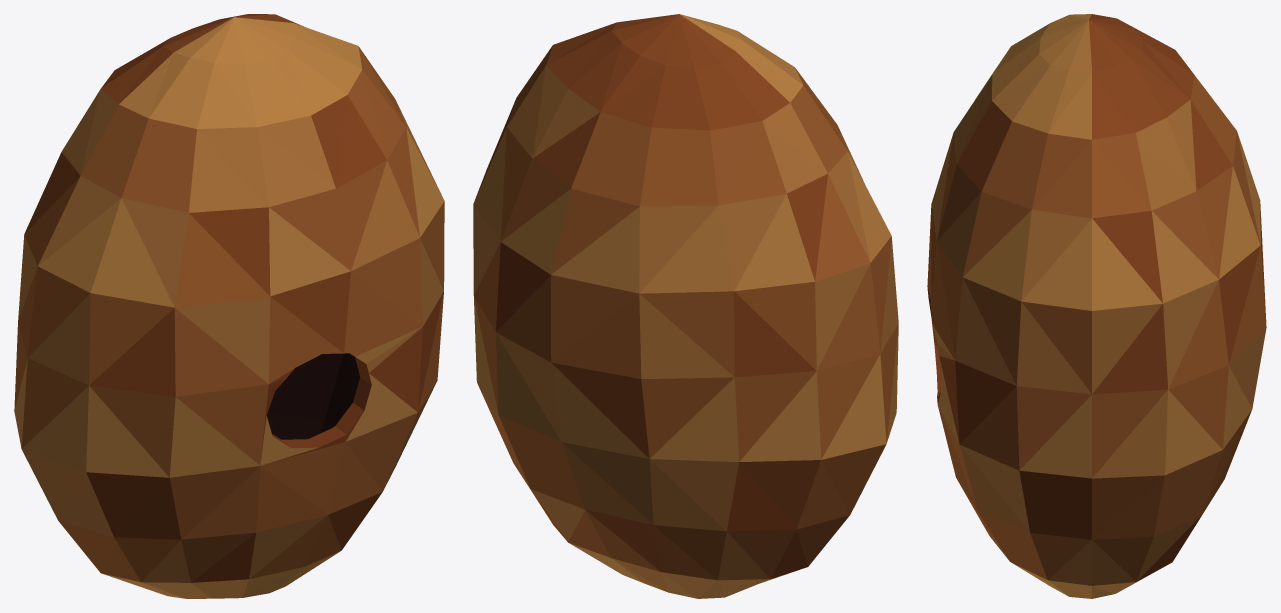
Rendered from Bee.glb.
The picture shows the model from 3 angles, left to right: view 1: azimuth 30°, elevation 25°; view 2: azimuth 150°, elevation 25°; view 3: azimuth 270°, elevation 25°; orthographic projection. The views are drawn at different scales.
Visible parts, largest first — view 1: Beehive_LowPoly; view 2: Beehive_LowPoly; view 3: Beehive_LowPoly.
Part boxes in pixels (x1,y1,x2,y2): Beehive_LowPoly: (14,14,444,598); Beehive_LowPoly: (473,14,898,598); Beehive_LowPoly: (927,14,1266,598).
Size of the model in its own units: 3.51 by 4.77 by 2.6.
